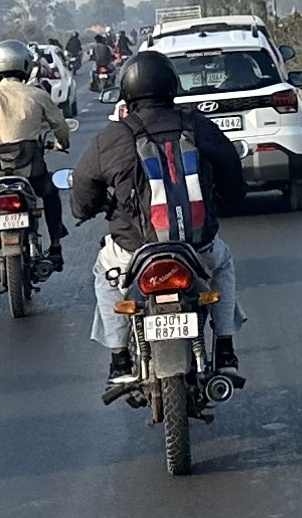BikeWithRider: (50, 51, 253, 471), (0, 36, 80, 324), (89, 34, 116, 96), (64, 31, 84, 76), (114, 29, 135, 70)
Helmet: (114, 51, 180, 107), (0, 38, 37, 86)
